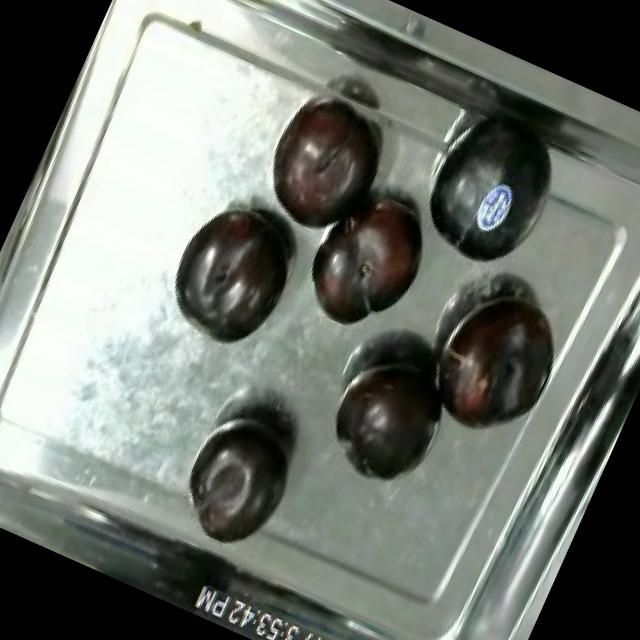Fruit: (400, 94, 580, 290), (413, 272, 579, 457), (286, 170, 452, 354), (155, 185, 316, 362), (246, 83, 401, 250), (312, 337, 464, 502), (173, 406, 311, 564)
